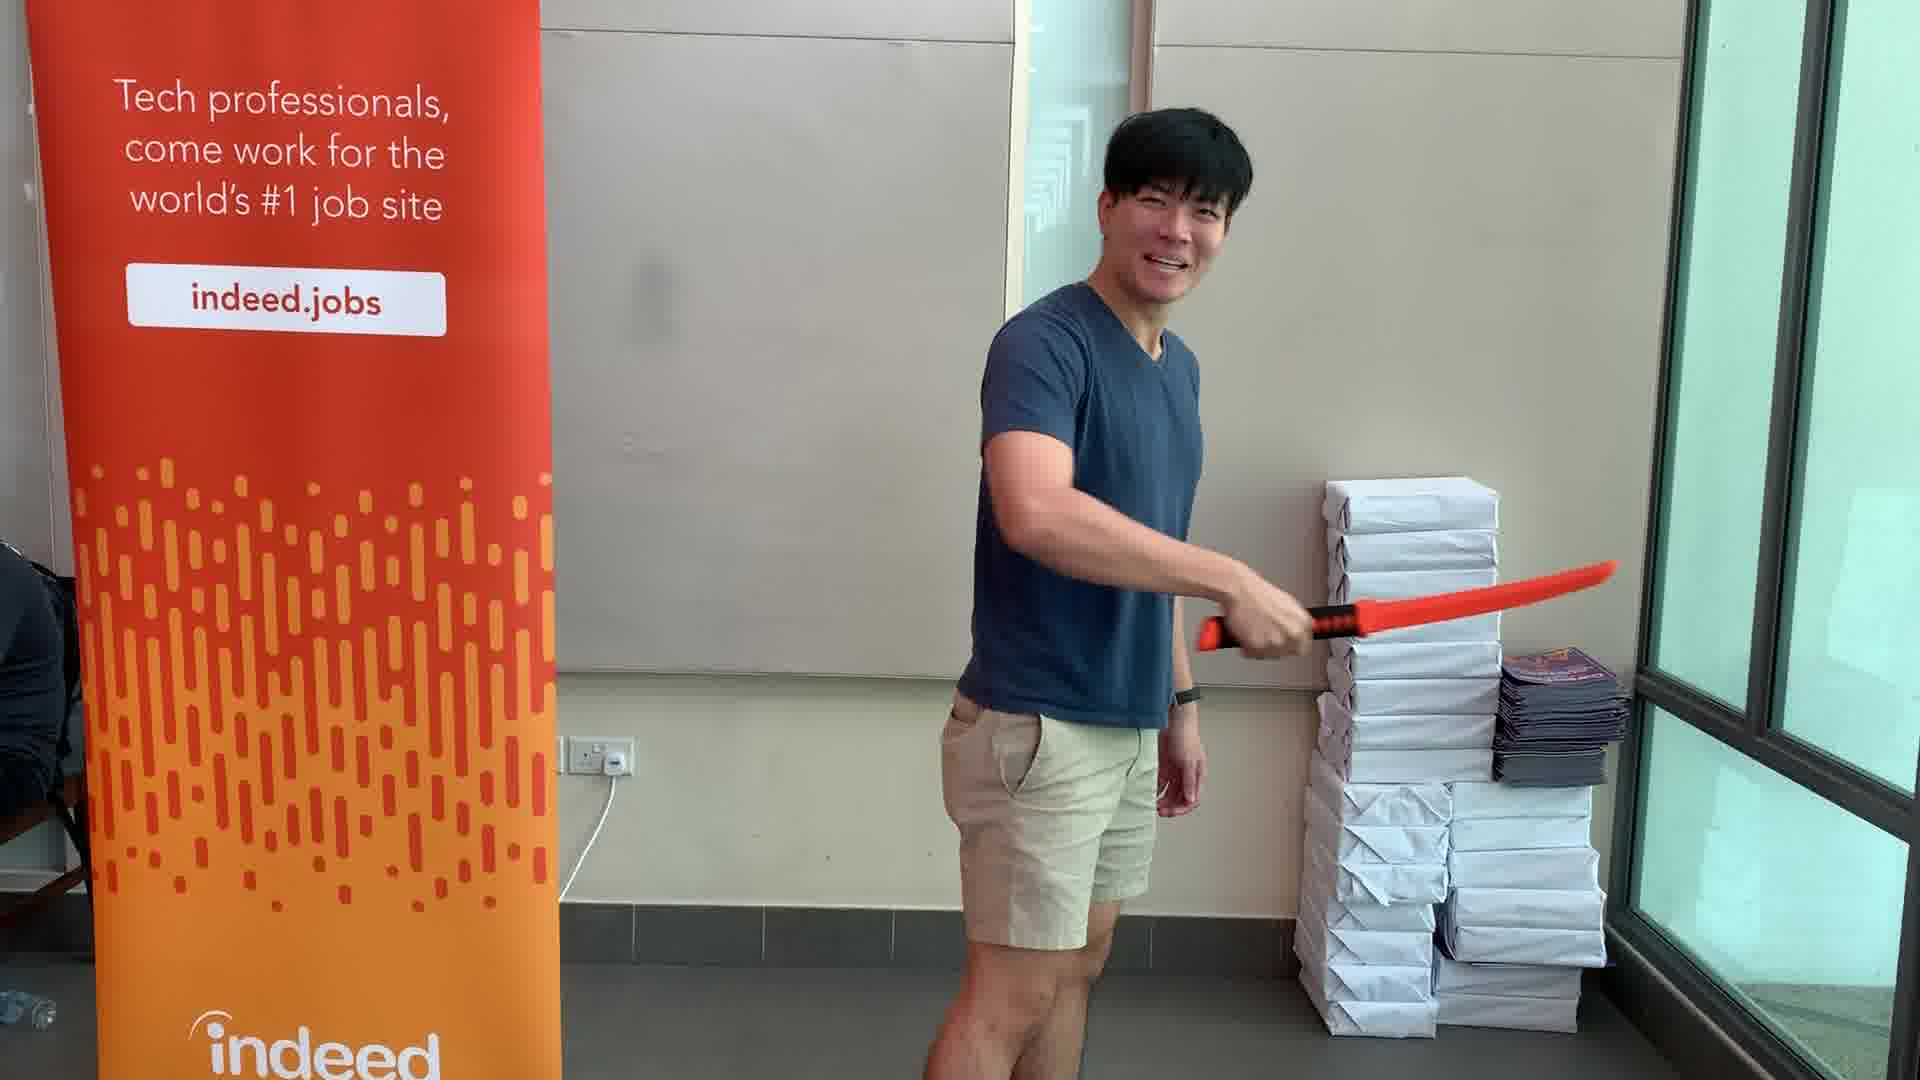knife: (1188, 549, 1629, 661)
